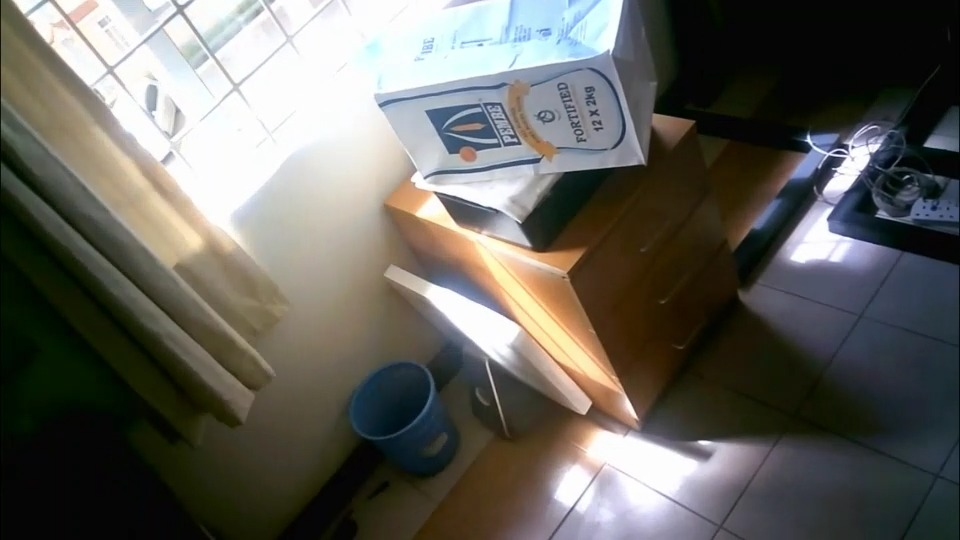wheat_flour_blue_label: (372, 0, 650, 178)
